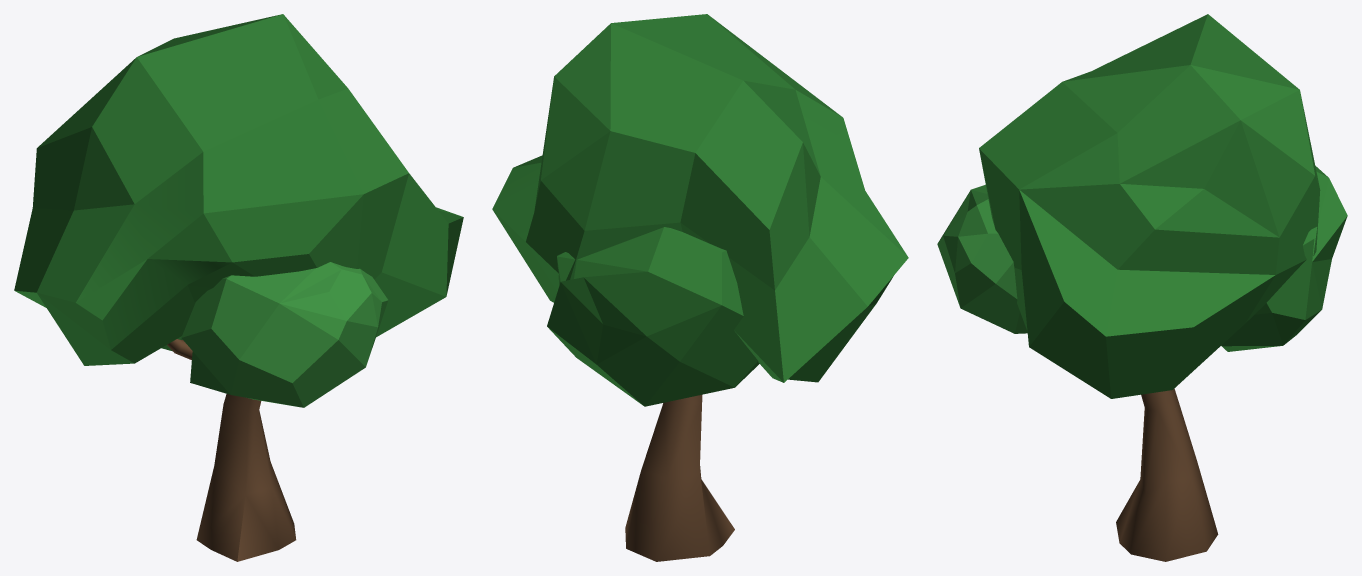
File: Tree_E.fbx
3 renders of one model, left to right at view 1: azimuth 30°, elevation 25°; view 2: azimuth 150°, elevation 25°; view 3: azimuth 270°, elevation 25°, orthographic. The views are drawn at different scales.
Parts seen in each view (by area): view 1: Tree_E; view 2: Tree_E; view 3: Tree_E.
Boxes of the visible parts, <box> form: Tree_E: <box>14,14,463,561</box>; Tree_E: <box>492,14,908,561</box>; Tree_E: <box>937,14,1347,561</box>.
Size of the model in its own units: 388 by 479 by 358.
